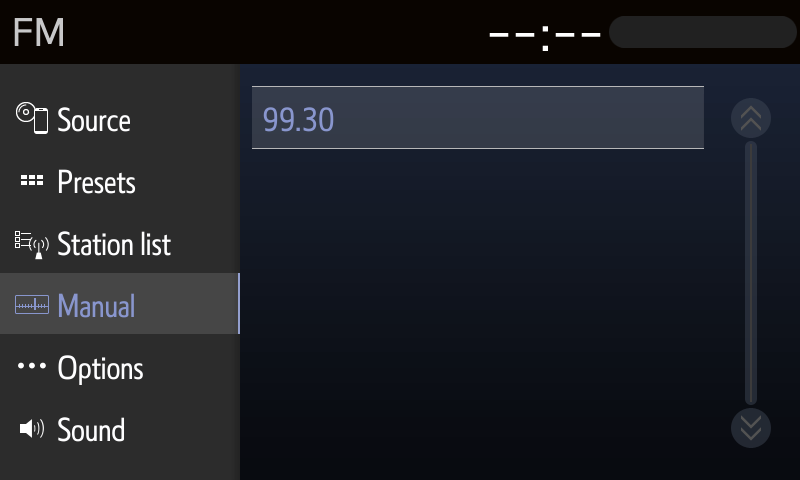touchPart: (10, 225, 177, 261), (12, 95, 139, 139), (8, 349, 146, 389), (1, 411, 138, 450), (13, 163, 143, 202)
untouchPart: (251, 87, 704, 149), (724, 91, 777, 443), (610, 14, 796, 50), (4, 287, 148, 327), (481, 13, 602, 51), (9, 11, 70, 49)
